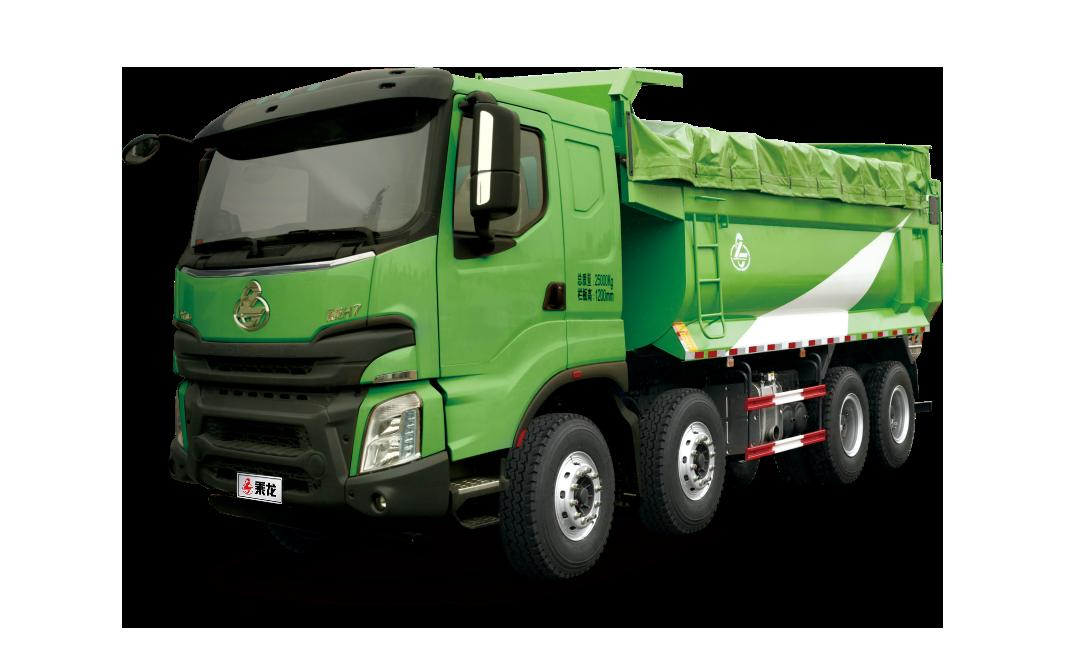truck: (143, 18, 953, 598)
